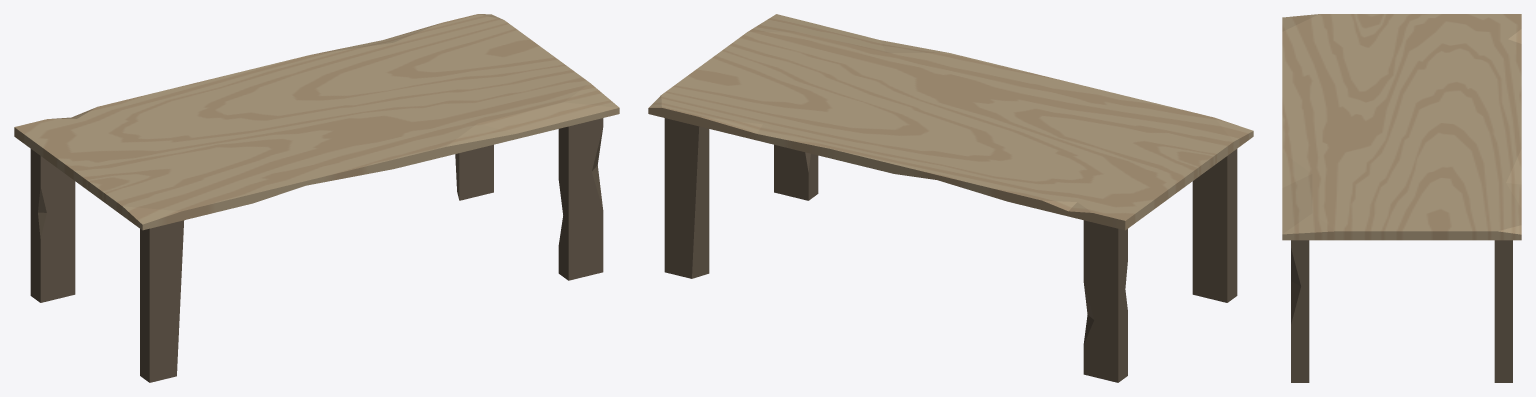
The model's file is SM_Prop_Table_01.fbx.
The picture shows the model from 3 angles, left to right: view 1: azimuth 30°, elevation 25°; view 2: azimuth 150°, elevation 25°; view 3: azimuth 270°, elevation 25°; orthographic projection. The views are drawn at different scales.
Visible parts, largest first — view 1: SM_Prop_Table_01; view 2: SM_Prop_Table_01; view 3: SM_Prop_Table_01.
Boxes of the visible parts, <box> form: SM_Prop_Table_01: <box>14,14,619,382</box>; SM_Prop_Table_01: <box>648,14,1253,382</box>; SM_Prop_Table_01: <box>1282,14,1521,382</box>.
Size of the model in its own units: 205 by 69.12 by 95.45.
